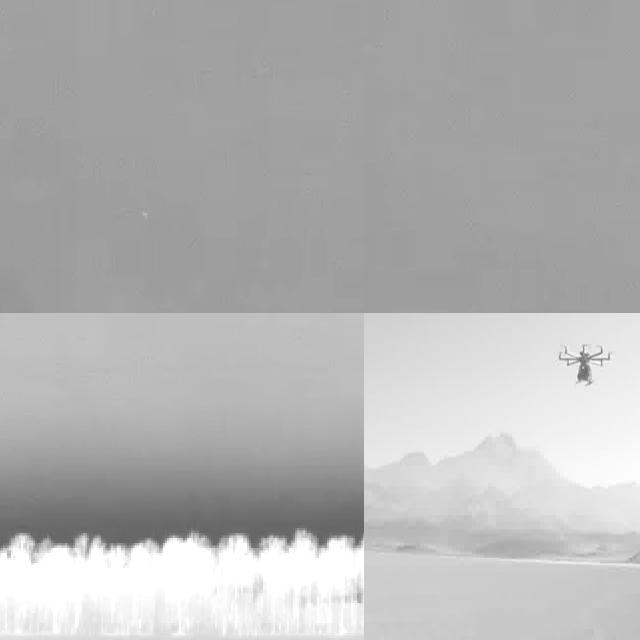0: (137, 203, 161, 231)
drone: (555, 338, 614, 388)
